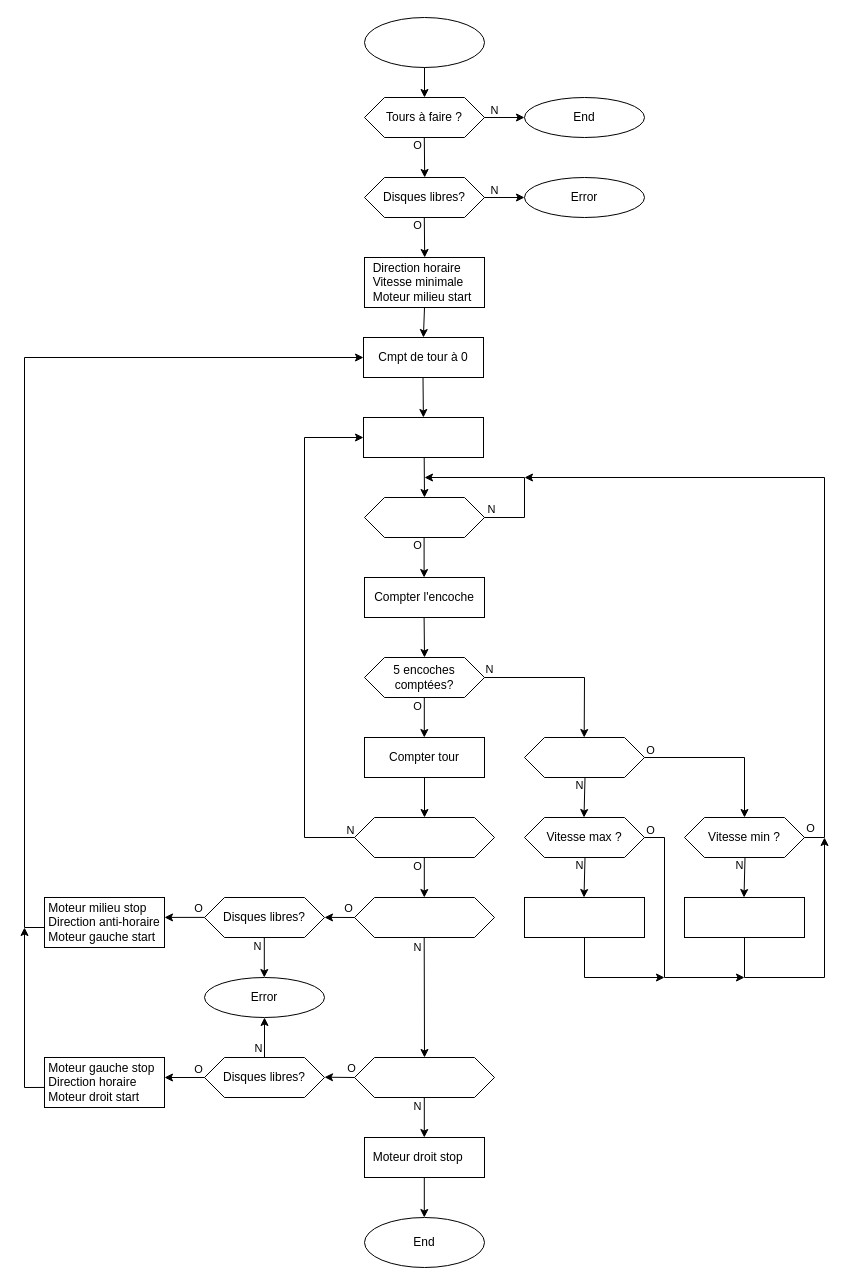
Image size: 850x1285. Some labels were removed from this diagram. Each missing label, with the centre of its shape:
"Accélérer" belongs at [584,917].
"Cmpt de encoche à 0" belongs at [423,437].
"Dernier tour ?" belongs at [584,757].
"Flanc montant encoche?" belongs at [424,517].
"Moteur gauche actif?" belongs at [424,1077].
"Moteur milieu actif?" belongs at [424,917].
"Ralentir" belongs at [744,917].
"Start" belongs at [424,42].
"Tous les tours finis?" belongs at [424,837].
